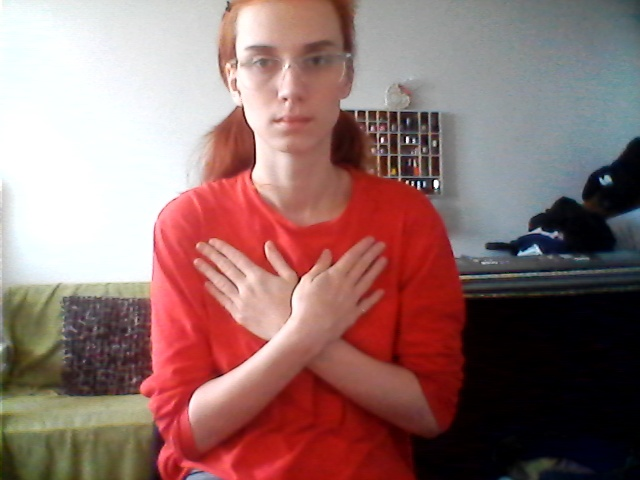z: (173, 233, 451, 459)
